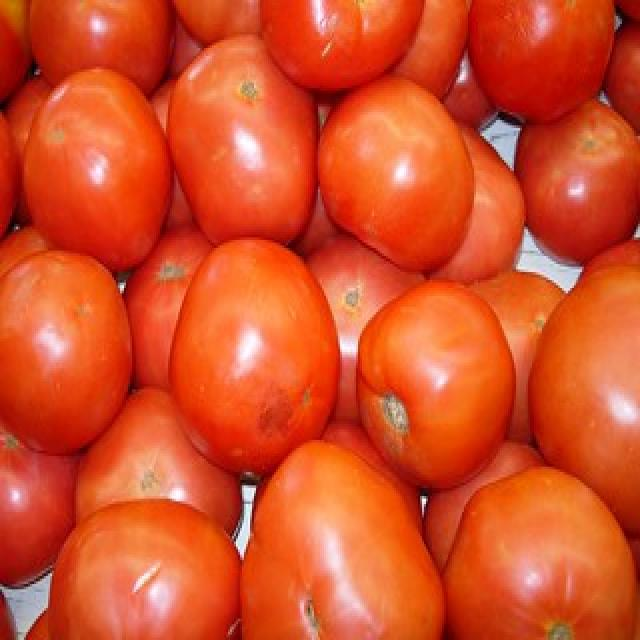Tomato: (166, 233, 344, 482), (234, 438, 448, 640), (442, 463, 637, 640), (355, 278, 520, 487), (164, 35, 326, 247), (19, 64, 179, 274), (316, 74, 478, 270), (0, 249, 135, 461), (46, 495, 242, 640)
